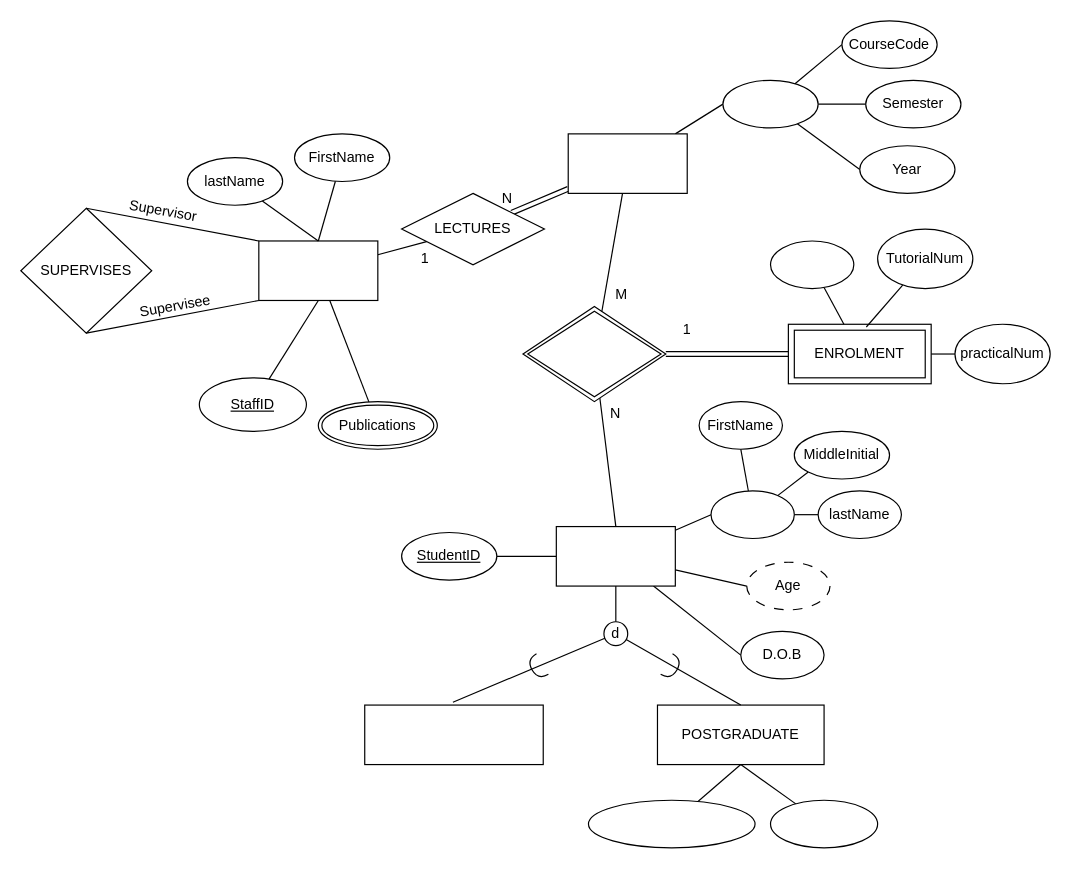
Some shapes in this 1071 by 869 pixel diagram are drawn without their labels. The centre of each missing label's shape, as x and y in pixels:
"COURSE" goes at point 627,163.
"Institution" goes at point 823,823.
"Key" goes at point 770,103.
"LECTURER" goes at point 318,270.
"Name" goes at point 752,514.
"PARTICIPATES" goes at point 594,353.
"PreviousQualification" goes at point 671,823.
"SessionID" goes at point 811,264.
"STUDENT" goes at point 615,555.
"UNDERGRADUATE" goes at point 453,734.
